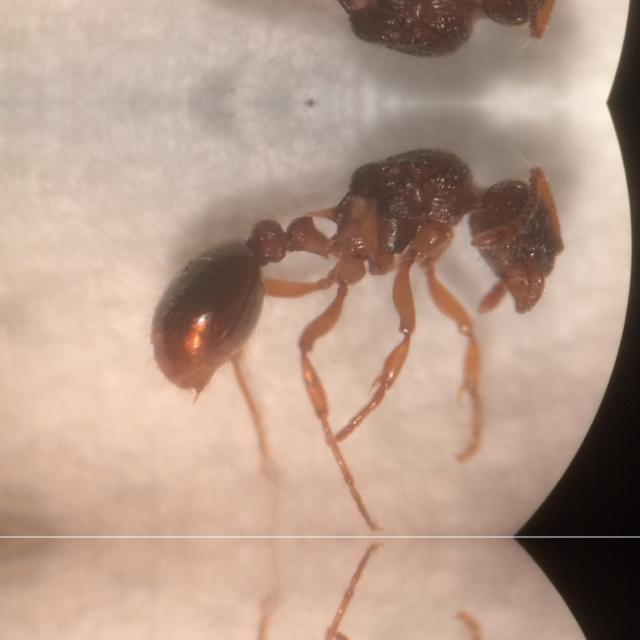Myrmica: (143, 102, 599, 428), (143, 0, 599, 102)
